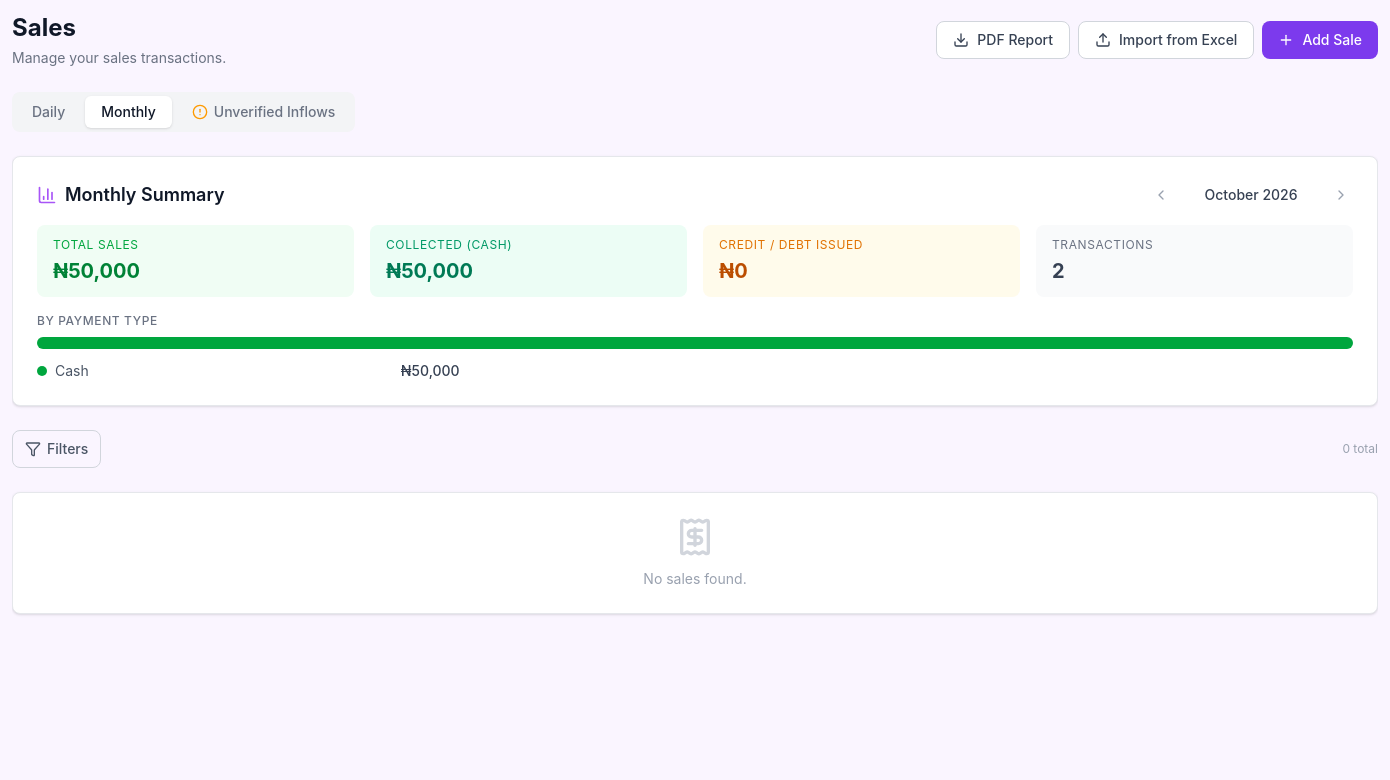
it: Sales Page - Race Condition & Sequence Guard Tests (Phase 3) › discards an earlier slow summary response when month is switched rapidly
Expected: the text "Loading summary..." is not shown
Expected: the text "Total Sales" is shown, [53, 237, 139, 252]
// Click left (Call 1 - slow)
Click the 7th button at (1161, 195), box [1149, 183, 1173, 207]
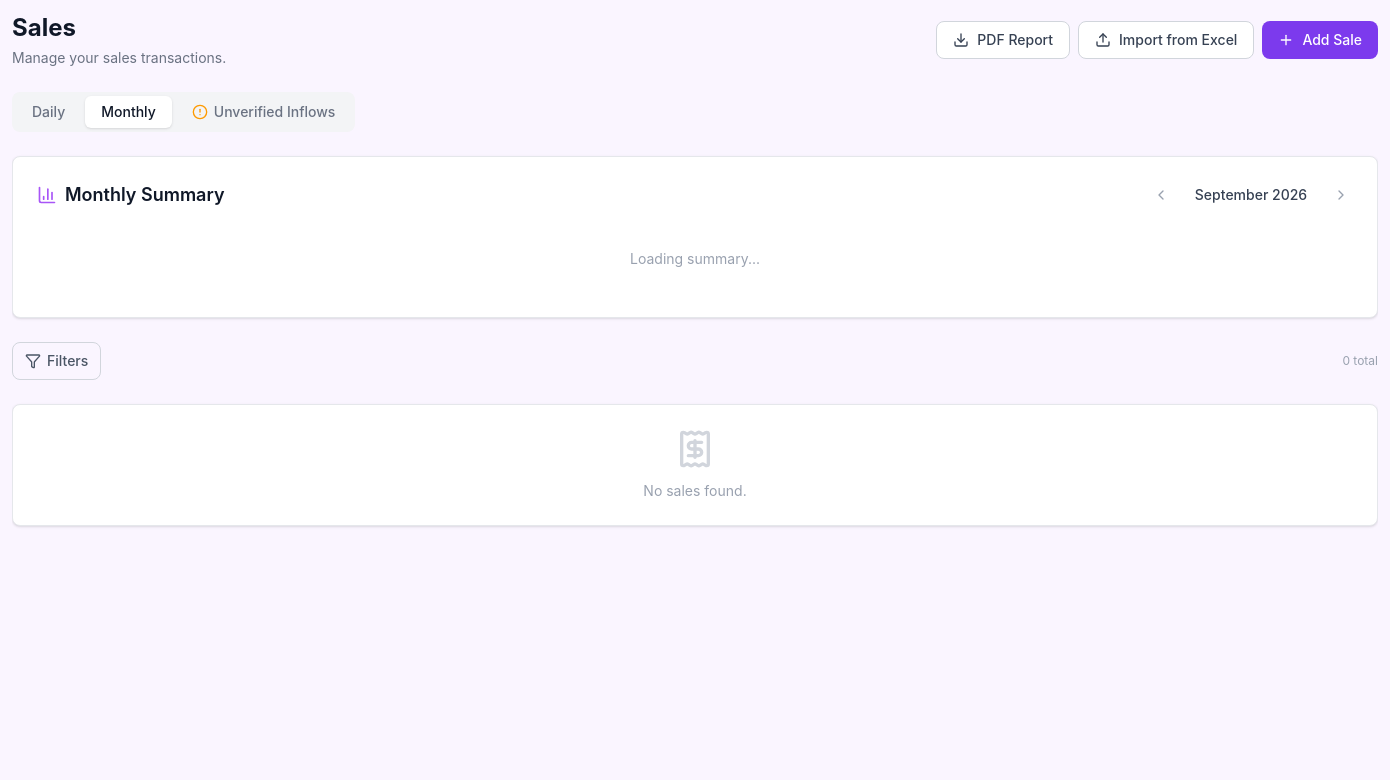
// Click right (Call 2 - fast)
Click the 8th button at (1341, 195), box [1329, 183, 1353, 207]
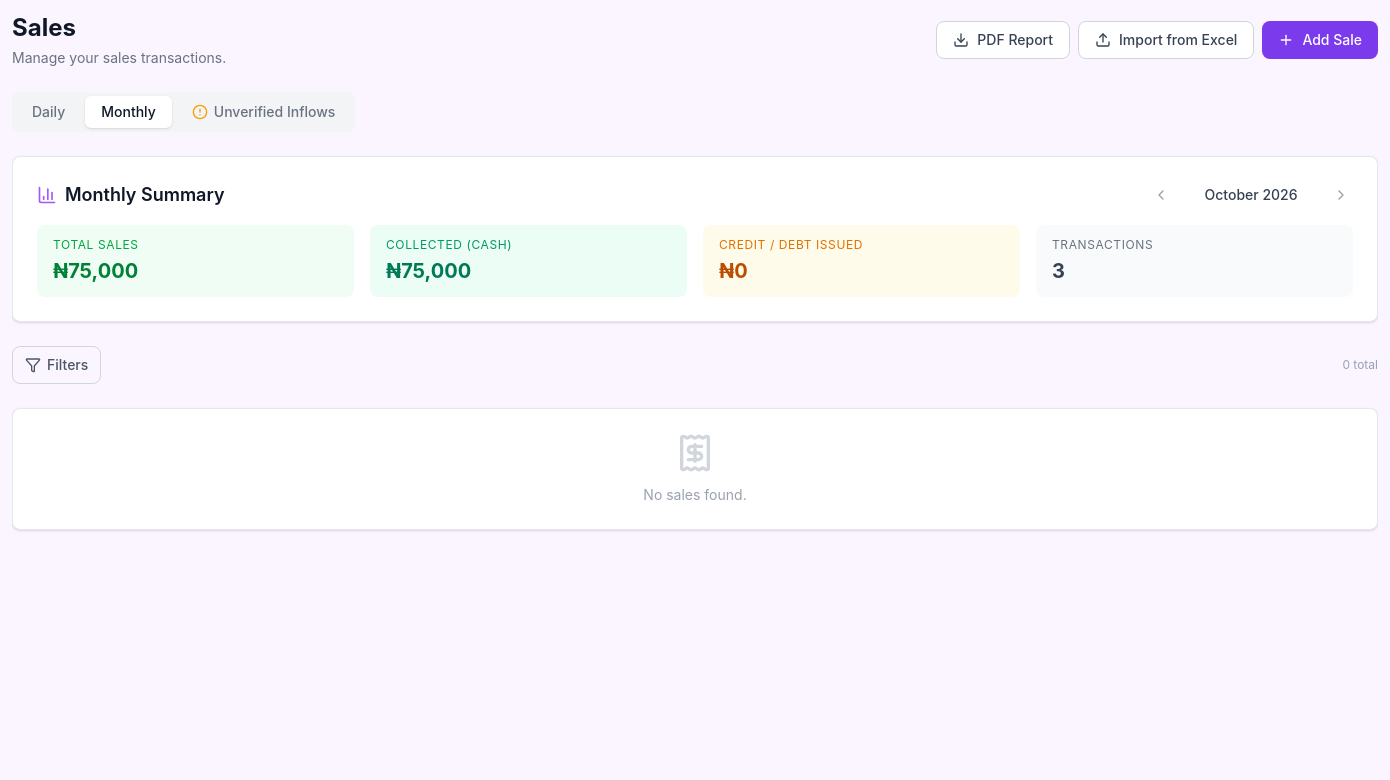
Now the text "₦75,000" below "Total Sales" is shown, box [53, 259, 138, 283]
